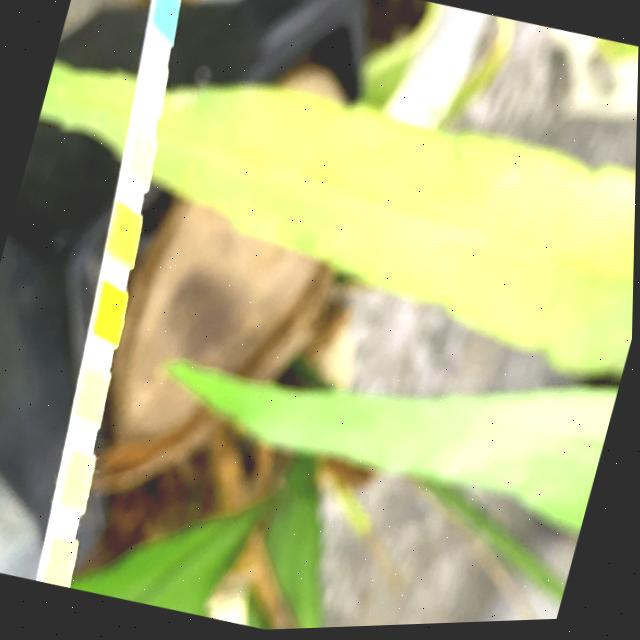Bilirubin: (137, 67, 168, 104)
Blood: (93, 289, 128, 338)
Glucose: (151, 0, 177, 28)
Ketone: (125, 138, 158, 179)
Protein: (55, 451, 96, 514)
SpGravity: (108, 211, 142, 257)
Urobilinogen: (43, 536, 80, 588)
pH: (76, 370, 112, 424)
